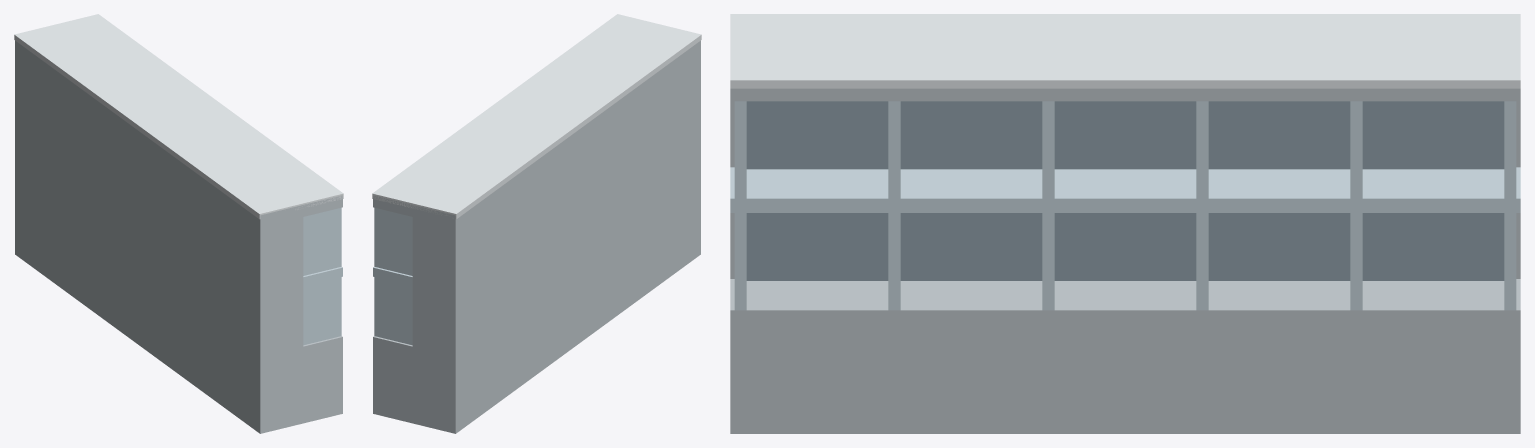
File: fridge.glb
3 renders of one model, left to right at view 1: azimuth 30°, elevation 25°; view 2: azimuth 150°, elevation 25°; view 3: azimuth 270°, elevation 25°, orthographic. The views are drawn at different scales.
Parts seen in each view (by area): view 1: back, top_trim, lower_body, divider_5, upper_body, middle_shelf; view 2: back, top_trim, lower_body, divider_0, upper_body, middle_shelf; view 3: lower_body, top_trim, middle_shelf, upper_body, inside_1_0, inside_1_1, inside_1_2, inside_1_3, inside_1_4, inside_0_0, inside_0_1, inside_0_2 (+9 smaller).
Boxes of the visible parts, x1=… form: back: x1=15, y1=40, x2=303, y2=433; top_trim: x1=14, y1=14, x2=343, y2=219; lower_body: x1=15, y1=180, x2=342, y2=433; divider_5: x1=303, y1=207, x2=341, y2=345; upper_body: x1=15, y1=41, x2=342, y2=222; middle_shelf: x1=303, y1=266, x2=342, y2=286; back: x1=412, y1=41, x2=700, y2=433; top_trim: x1=372, y1=14, x2=701, y2=219; lower_body: x1=373, y1=180, x2=700, y2=432; divider_0: x1=374, y1=207, x2=412, y2=345; upper_body: x1=373, y1=41, x2=700, y2=223; middle_shelf: x1=373, y1=266, x2=412, y2=286; lower_body: x1=730, y1=279, x2=1520, y2=433; top_trim: x1=730, y1=14, x2=1520, y2=88; middle_shelf: x1=730, y1=167, x2=1520, y2=212; upper_body: x1=730, y1=88, x2=1520, y2=101; inside_1_0: x1=1362, y1=101, x2=1504, y2=169; inside_1_1: x1=1208, y1=101, x2=1350, y2=169; inside_1_2: x1=1054, y1=101, x2=1196, y2=169; inside_1_3: x1=900, y1=101, x2=1042, y2=169; inside_1_4: x1=746, y1=101, x2=888, y2=169; inside_0_0: x1=1362, y1=213, x2=1504, y2=280; inside_0_1: x1=1208, y1=213, x2=1350, y2=280; inside_0_2: x1=1054, y1=213, x2=1196, y2=280.
Bounding box in the file's own units: 1.17 × 2.92 × 5.9.
